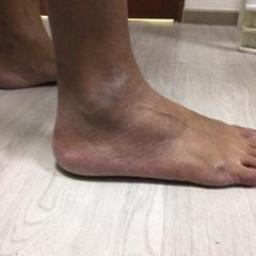Lateral View -Right Foot-: (44, 52, 255, 211)
